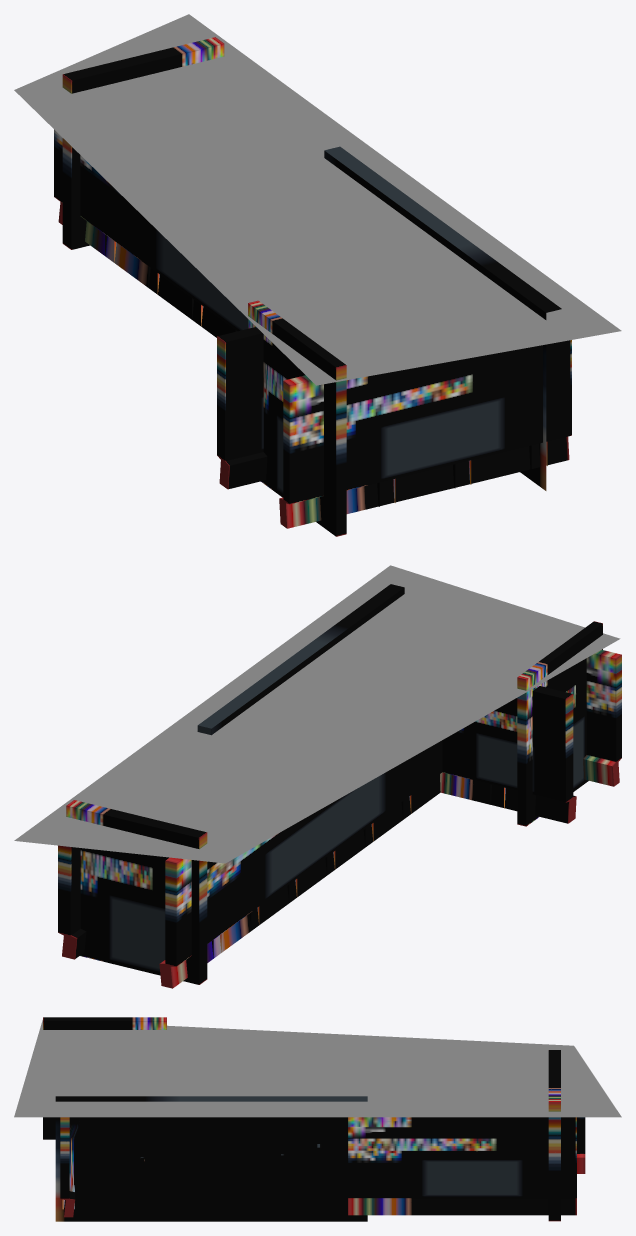
Rendered from TutorialCollider (2).fbx.
The picture shows the model from 3 angles, top to bottom: view 1: azimuth 30°, elevation 25°; view 2: azimuth 150°, elevation 25°; view 3: azimuth 270°, elevation 25°; orthographic projection. The views are drawn at different scales.
Parts seen in each view (by area): view 1: Ceiling.001, Ceiling.041, Ceiling.043, Ceiling.026, Ceiling.040, Ceiling.025, Ceiling.011; view 2: Ceiling.001, Ceiling.043, Ceiling.011, Ceiling.040, Ceiling.026, Ceiling.041, Ceiling.025, Ceiling.042; view 3: Ceiling.001, Ceiling.025, Ceiling.042, Ceiling.011, Ceiling.026, Ceiling.041, Ceiling.029, Ceiling.043.
Boxes of the visible parts, x1=… form: Ceiling.001: x1=14, y1=14, x2=621, y2=385; Ceiling.041: x1=279, y1=340, x2=571, y2=528; Ceiling.043: x1=54, y1=129, x2=247, y2=337; Ceiling.026: x1=248, y1=300, x2=346, y2=536; Ceiling.040: x1=217, y1=327, x2=267, y2=489; Ceiling.025: x1=324, y1=146, x2=561, y2=490; Ceiling.011: x1=62, y1=37, x2=224, y2=249; Ceiling.001: x1=14, y1=565, x2=620, y2=863; Ceiling.043: x1=159, y1=740, x2=442, y2=988; Ceiling.011: x1=66, y1=800, x2=207, y2=984; Ceiling.040: x1=440, y1=686, x2=576, y2=823; Ceiling.026: x1=517, y1=621, x2=602, y2=826; Ceiling.041: x1=583, y1=649, x2=621, y2=786; Ceiling.025: x1=197, y1=584, x2=404, y2=735; Ceiling.042: x1=58, y1=845, x2=86, y2=959; Ceiling.001: x1=14, y1=1020, x2=621, y2=1117; Ceiling.025: x1=55, y1=1096, x2=367, y2=1221; Ceiling.042: x1=348, y1=1117, x2=576, y2=1215; Ceiling.011: x1=548, y1=1050, x2=560, y2=1221; Ceiling.026: x1=43, y1=1017, x2=166, y2=1139; Ceiling.041: x1=60, y1=1117, x2=75, y2=1217; Ceiling.029: x1=62, y1=1117, x2=79, y2=1209; Ceiling.043: x1=577, y1=1117, x2=585, y2=1173.
Bounding box in the file's own units: 3819 × 2210 × 9436.
